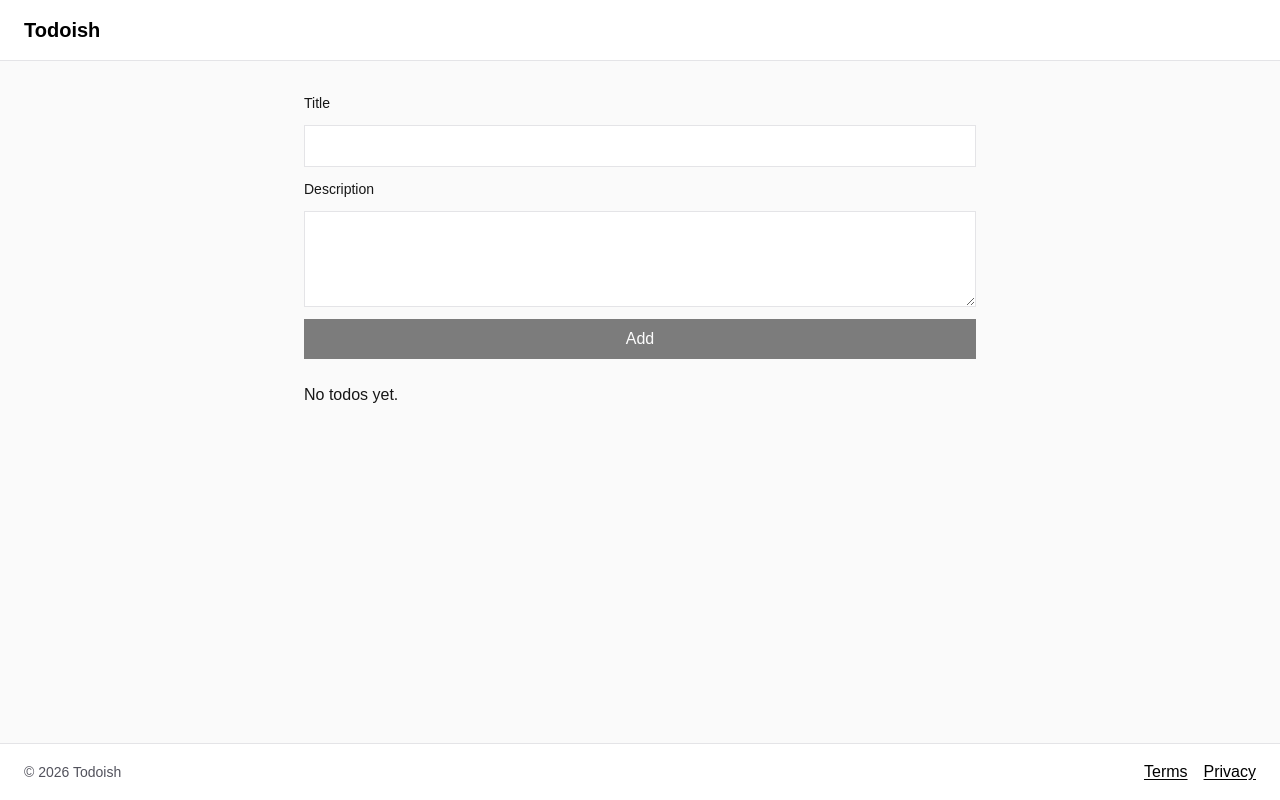
add from empty makes the new title visible and removes the empty message
Step 1. Type "Make sauce" into the field labelled "Title" → coordinates (640, 146), box left=304, top=125, right=976, bottom=167
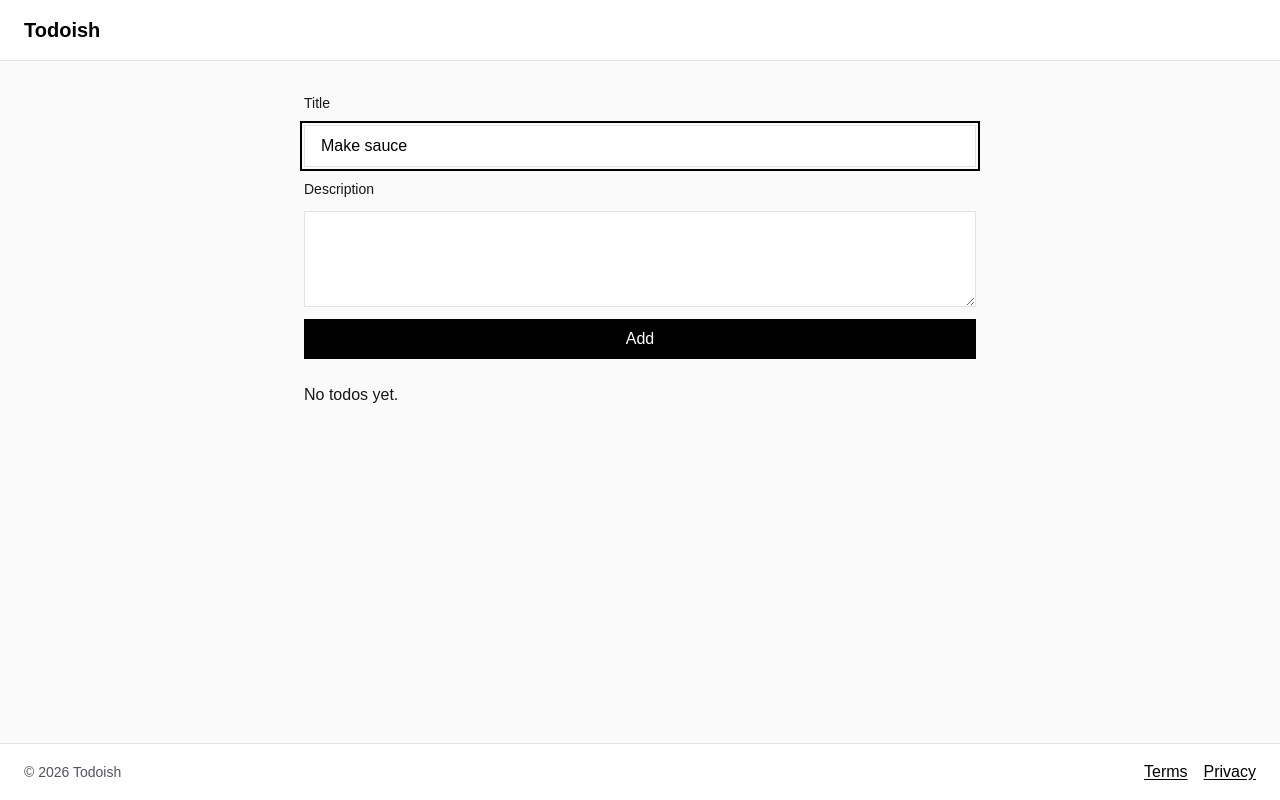
Step 2. Click the button "Add" → coordinates (640, 339), box left=304, top=319, right=976, bottom=359
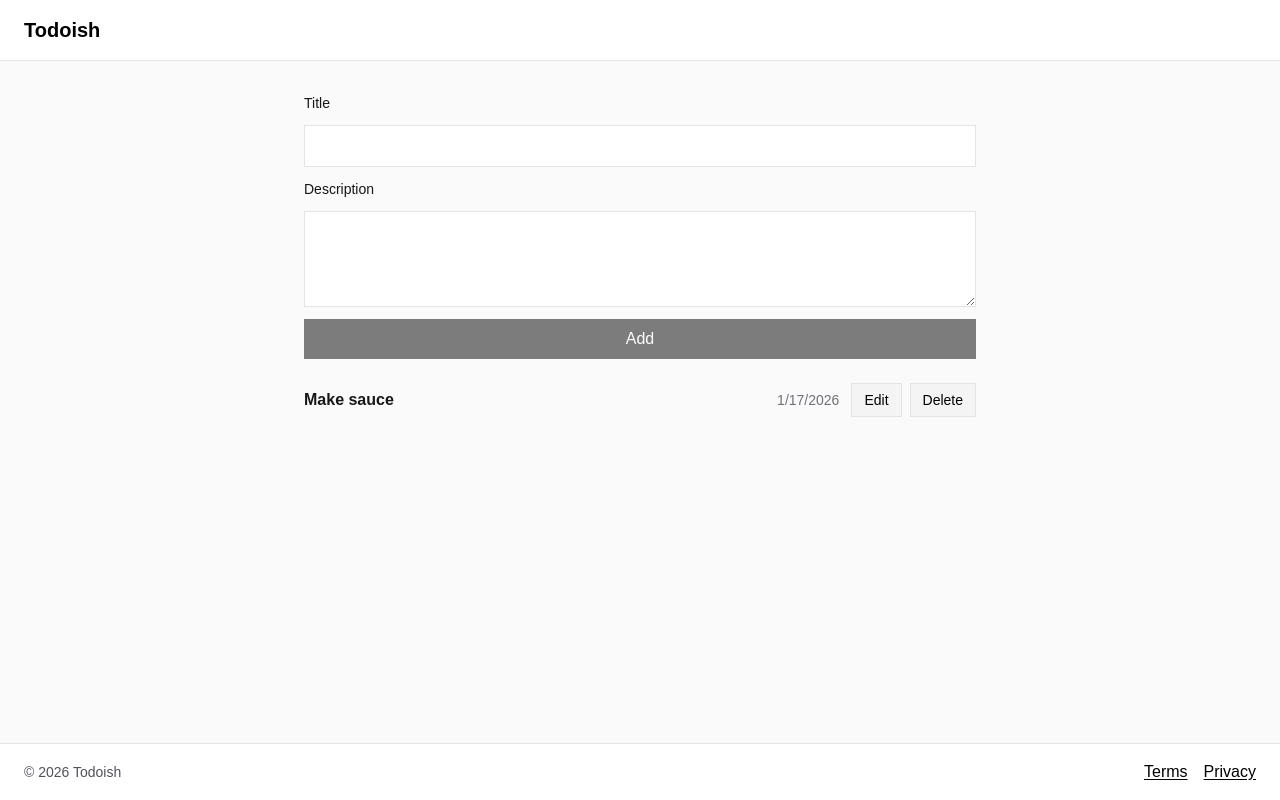
Expected: the text "Make sauce" is shown, left=304, top=391, right=394, bottom=408
